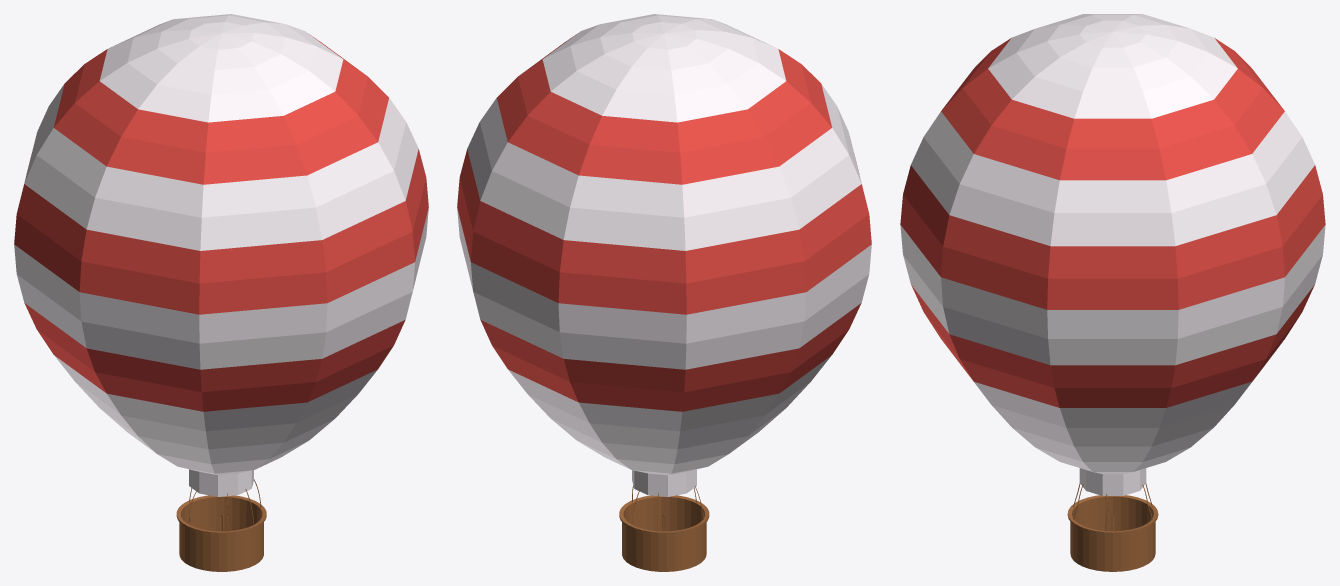
The model's file is hot air ballon.fbx.
3 views of the same model, side by side, from view 1: azimuth 30°, elevation 25°; view 2: azimuth 150°, elevation 25°; view 3: azimuth 270°, elevation 25° (orthographic).
Parts seen in each view (by area): view 1: Sphere, Circle; view 2: Sphere, Circle; view 3: Sphere, Circle.
Boxes of the visible parts, x1,y1,x2,y2 form: Sphere: (14, 14, 428, 496); Circle: (176, 495, 266, 571); Sphere: (457, 14, 871, 496); Circle: (619, 495, 709, 571); Sphere: (900, 14, 1325, 495); Circle: (1067, 495, 1158, 571).
Bounding box in the file's own units: 190 × 271 × 200.
